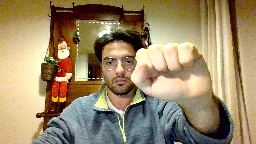Pugno: (127, 39, 213, 105)
